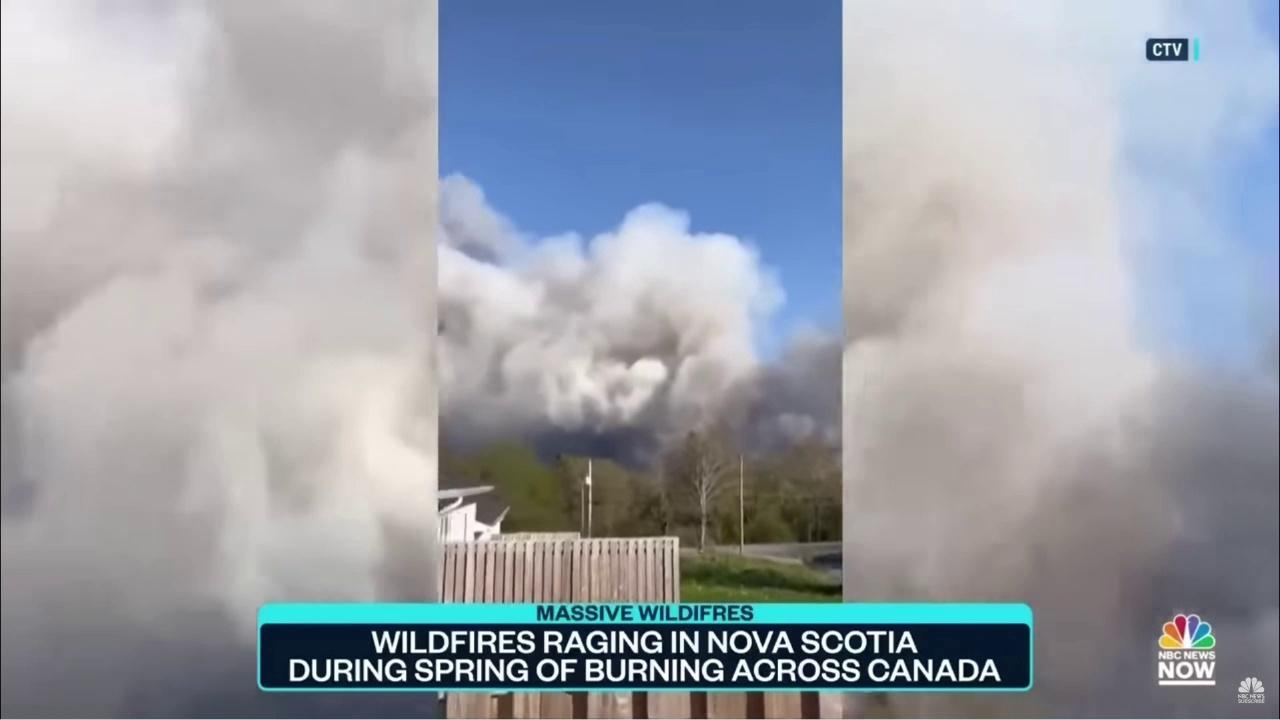smoke: (440, 169, 841, 474)
